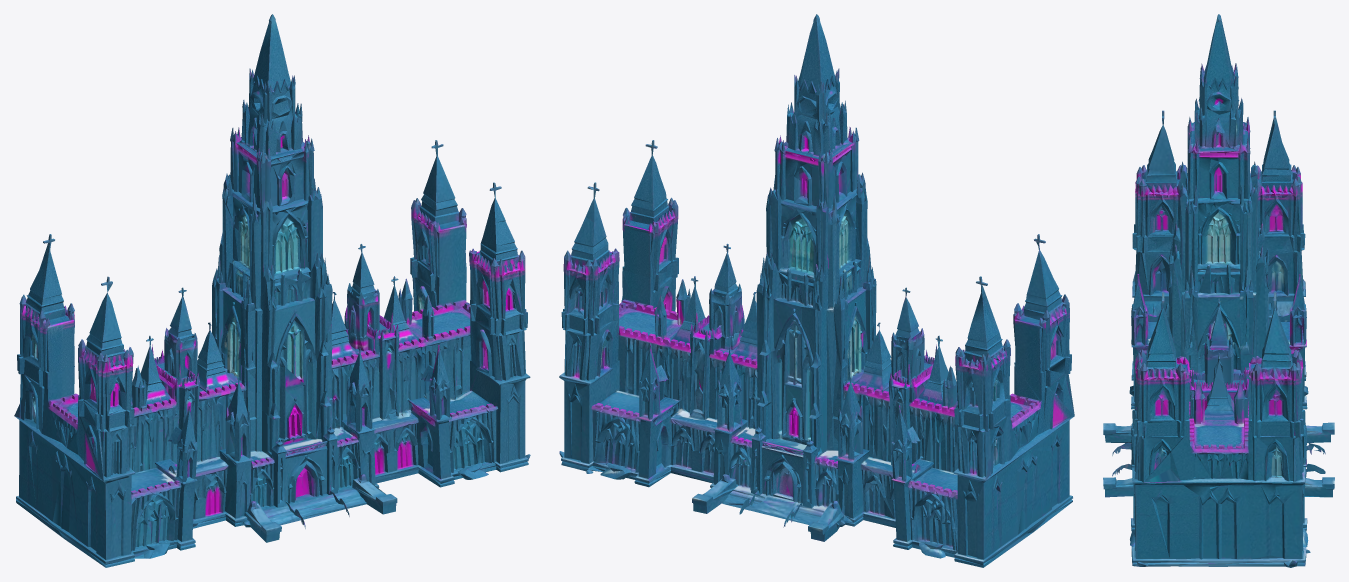
File: mx_sg_keep.glb
3 renders of one model, left to right at view 1: azimuth 30°, elevation 25°; view 2: azimuth 150°, elevation 25°; view 3: azimuth 270°, elevation 25°, orthographic. The views are drawn at different scales.
Bounding box in the file's own units: 1.83 × 1.9 × 0.8818.
1 material, 1 textured.
